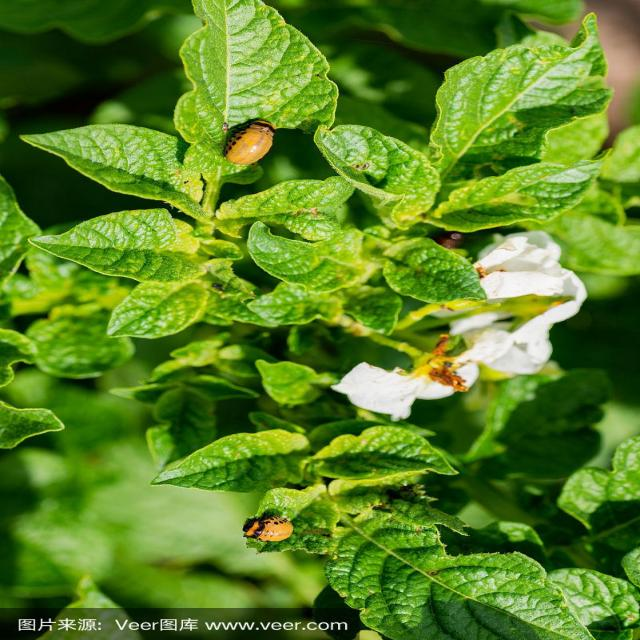ShuCaiHuaBanChong-Larva-: (218, 114, 292, 173)
